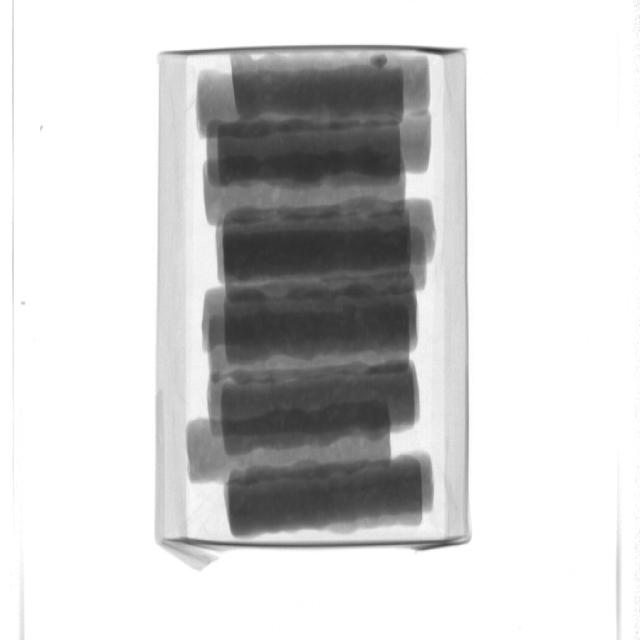ym: (372, 54, 389, 71)
